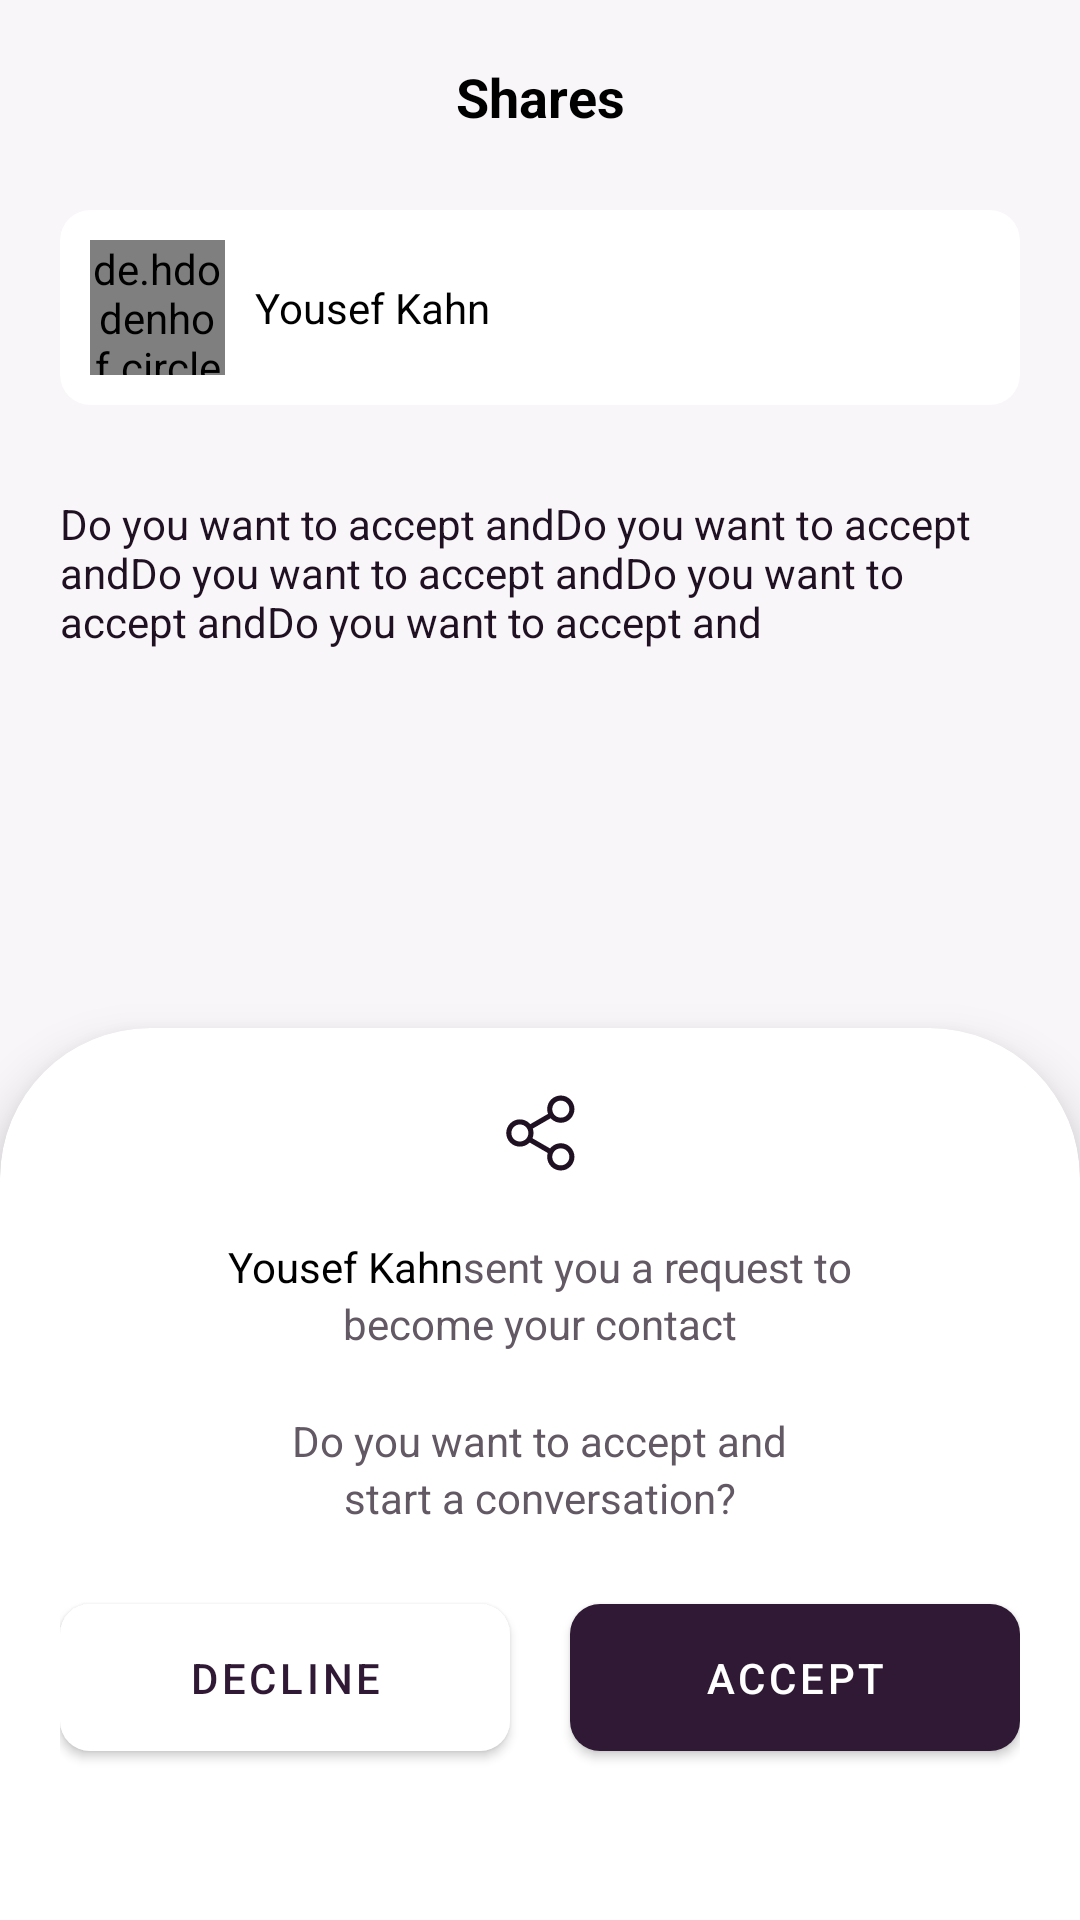

Icons on this 1080*1920 Android screen, each with its box as BBox(x1, y1, x2, y2):
share: BBox(506, 1095, 575, 1171)
